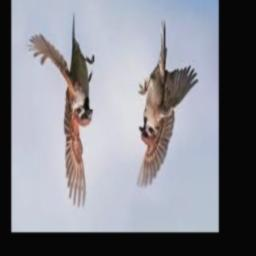Sparrow: (27, 14, 96, 208), (137, 19, 199, 188)
